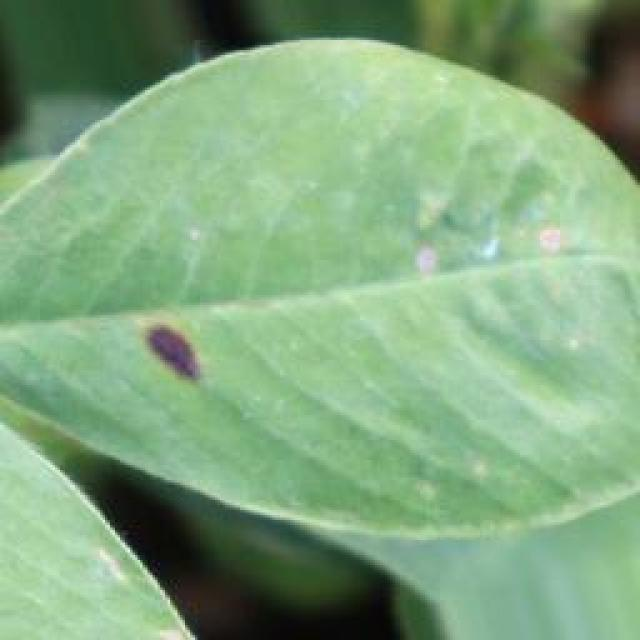Yellowish: (126, 296, 260, 409)
